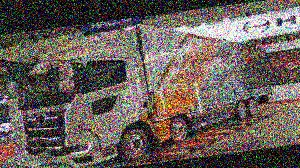truck: (10, 7, 280, 168)
